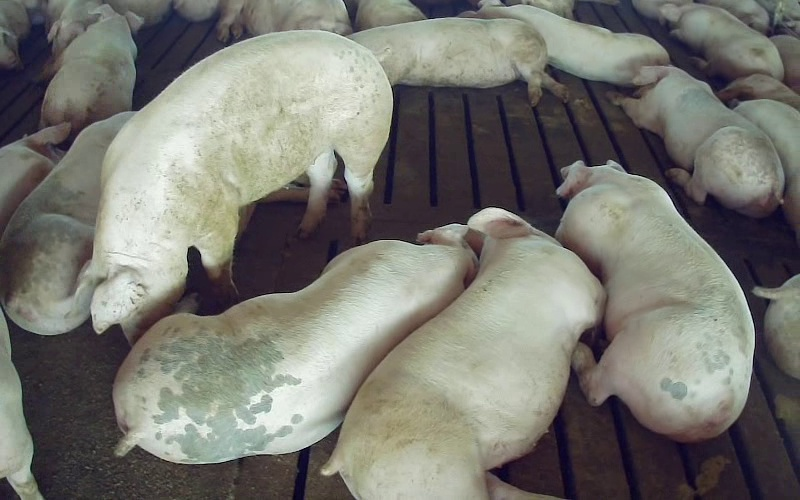pig: (87, 31, 392, 341), (113, 224, 476, 463), (324, 208, 603, 499), (556, 161, 753, 441), (0, 112, 132, 334), (608, 66, 783, 216), (350, 18, 567, 105), (461, 0, 669, 85), (41, 4, 142, 134), (734, 99, 799, 245), (660, 4, 783, 80), (217, 0, 351, 41)
